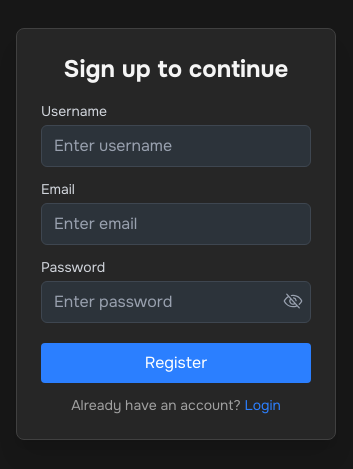
Test: User Registration and Login Flow › Registration Form › shows validation error for invalid email
Type "testuser" into the field named "username".
click(176, 146); type("testuser")  # box x1=41 y1=125 x2=311 y2=167
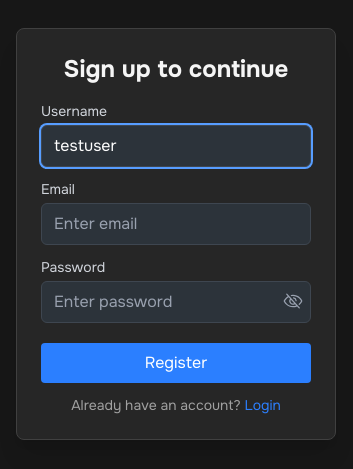
Type "invalidemail" into the field named "email".
click(176, 224); type("invalidemail")  # box x1=41 y1=203 x2=311 y2=245
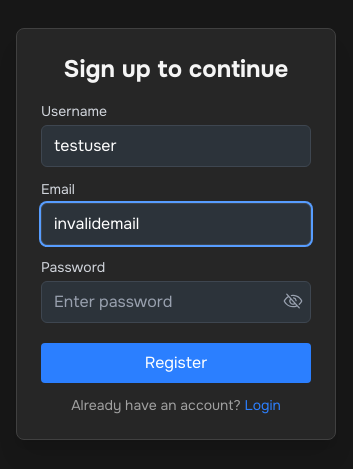
Type "123456" into the password field named "password".
click(176, 302); type("123456")  # box x1=41 y1=281 x2=311 y2=323
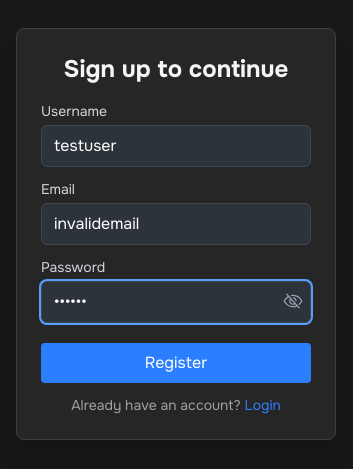
Click the button with test id "register-button".
click(176, 363)  # box x1=41 y1=343 x2=311 y2=383
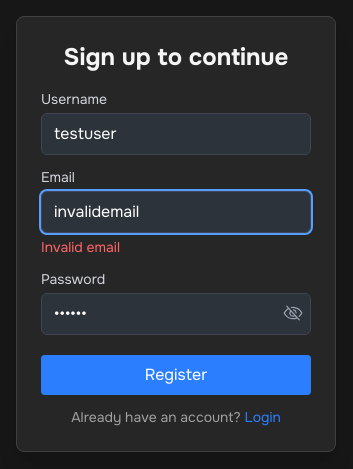
Expected: the text "Invalid email" is shown, x1=41 y1=238 x2=120 y2=256
